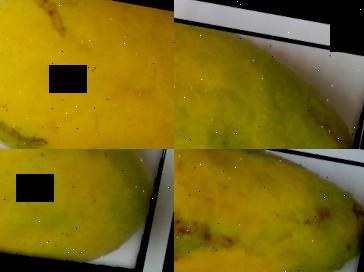PartiallyRipe: (174, 0, 364, 149), (0, 149, 174, 272)
Ripe: (0, 0, 174, 149), (174, 149, 364, 272)
